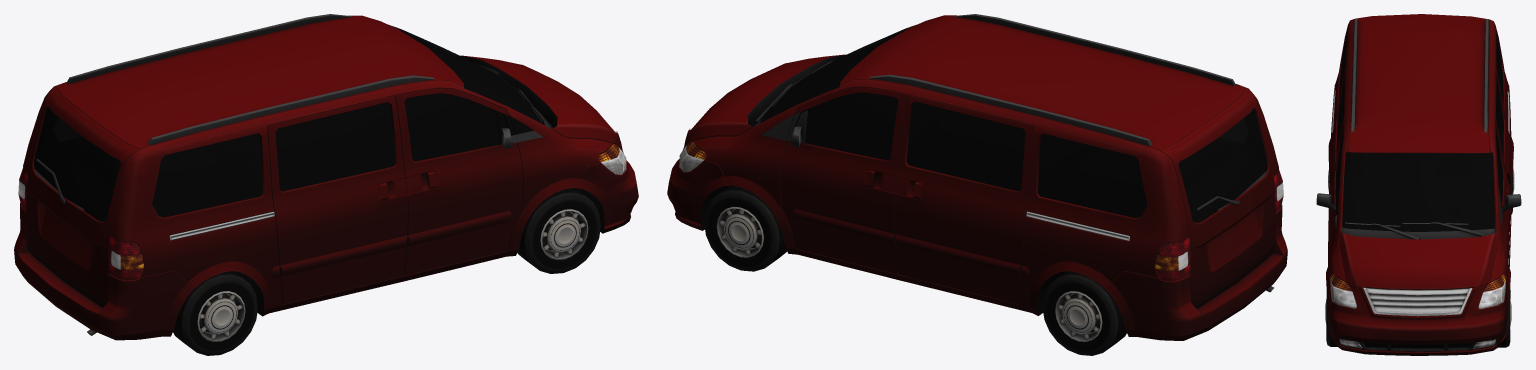
File: van.glb
3 views of the same model, side by side, from view 1: azimuth 30°, elevation 25°; view 2: azimuth 150°, elevation 25°; view 3: azimuth 270°, elevation 25° (orthographic). The views are drawn at different scales.
Parts seen in each view (by area): view 1: minivan body, Wheel_D003, Wheel_D002; view 2: minivan body, Wheel_D001, Wheel_D; view 3: minivan body, Wheel_D, Wheel_D002.
Part boxes in pixels (x1,y1,x2,y2): minivan body: [14, 14, 638, 340]; Wheel_D003: [173, 271, 257, 355]; Wheel_D002: [517, 188, 600, 273]; minivan body: [667, 14, 1287, 340]; Wheel_D001: [1042, 271, 1126, 355]; Wheel_D: [704, 185, 786, 271]; minivan body: [1316, 14, 1521, 355]; Wheel_D: [1498, 287, 1511, 347]; Wheel_D002: [1325, 291, 1337, 346].
Bounding box in the file's own units: 5.38 × 2.06 × 2.18.
4 materials, 3 textured.
